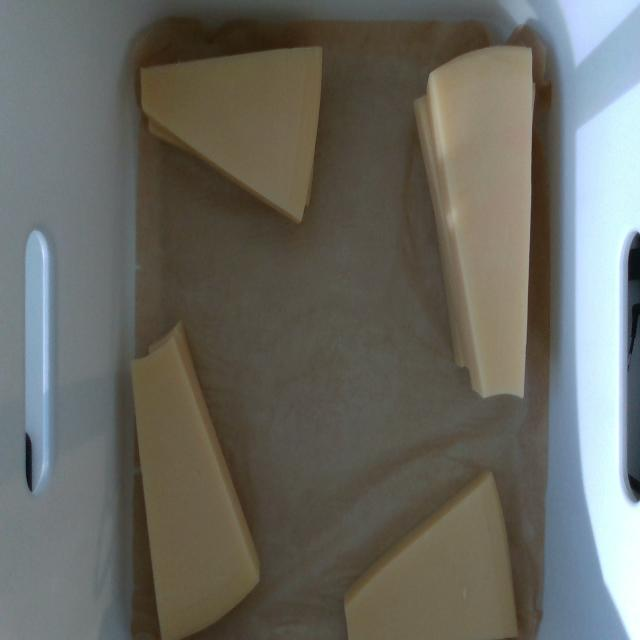cheese: (132, 337, 257, 639), (430, 47, 532, 400), (142, 50, 320, 218), (345, 476, 515, 639)
